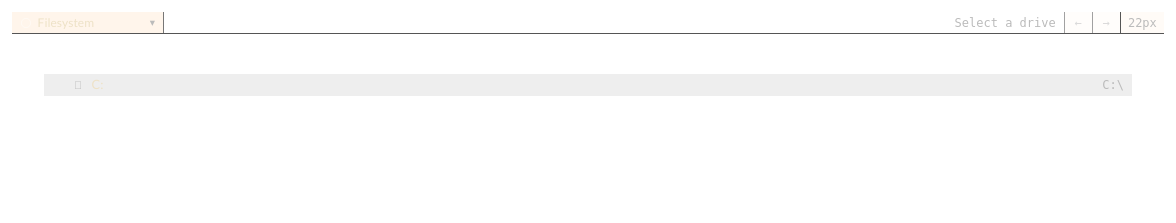
Test: FilesystemPanel › marks .grayspace folders as config entries
The image size is (1176, 223).
Double-click the button "C: C:\\".
double_click(78, 85)  # box [44, 74, 1132, 96]
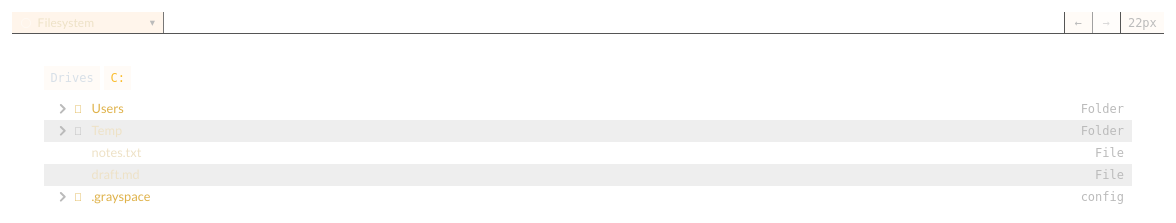
Now the text "config" is shown, box [1081, 188, 1124, 206]
